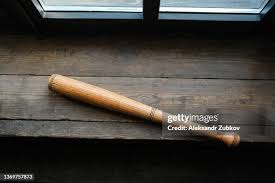baseball bat: (47, 73, 241, 148)
